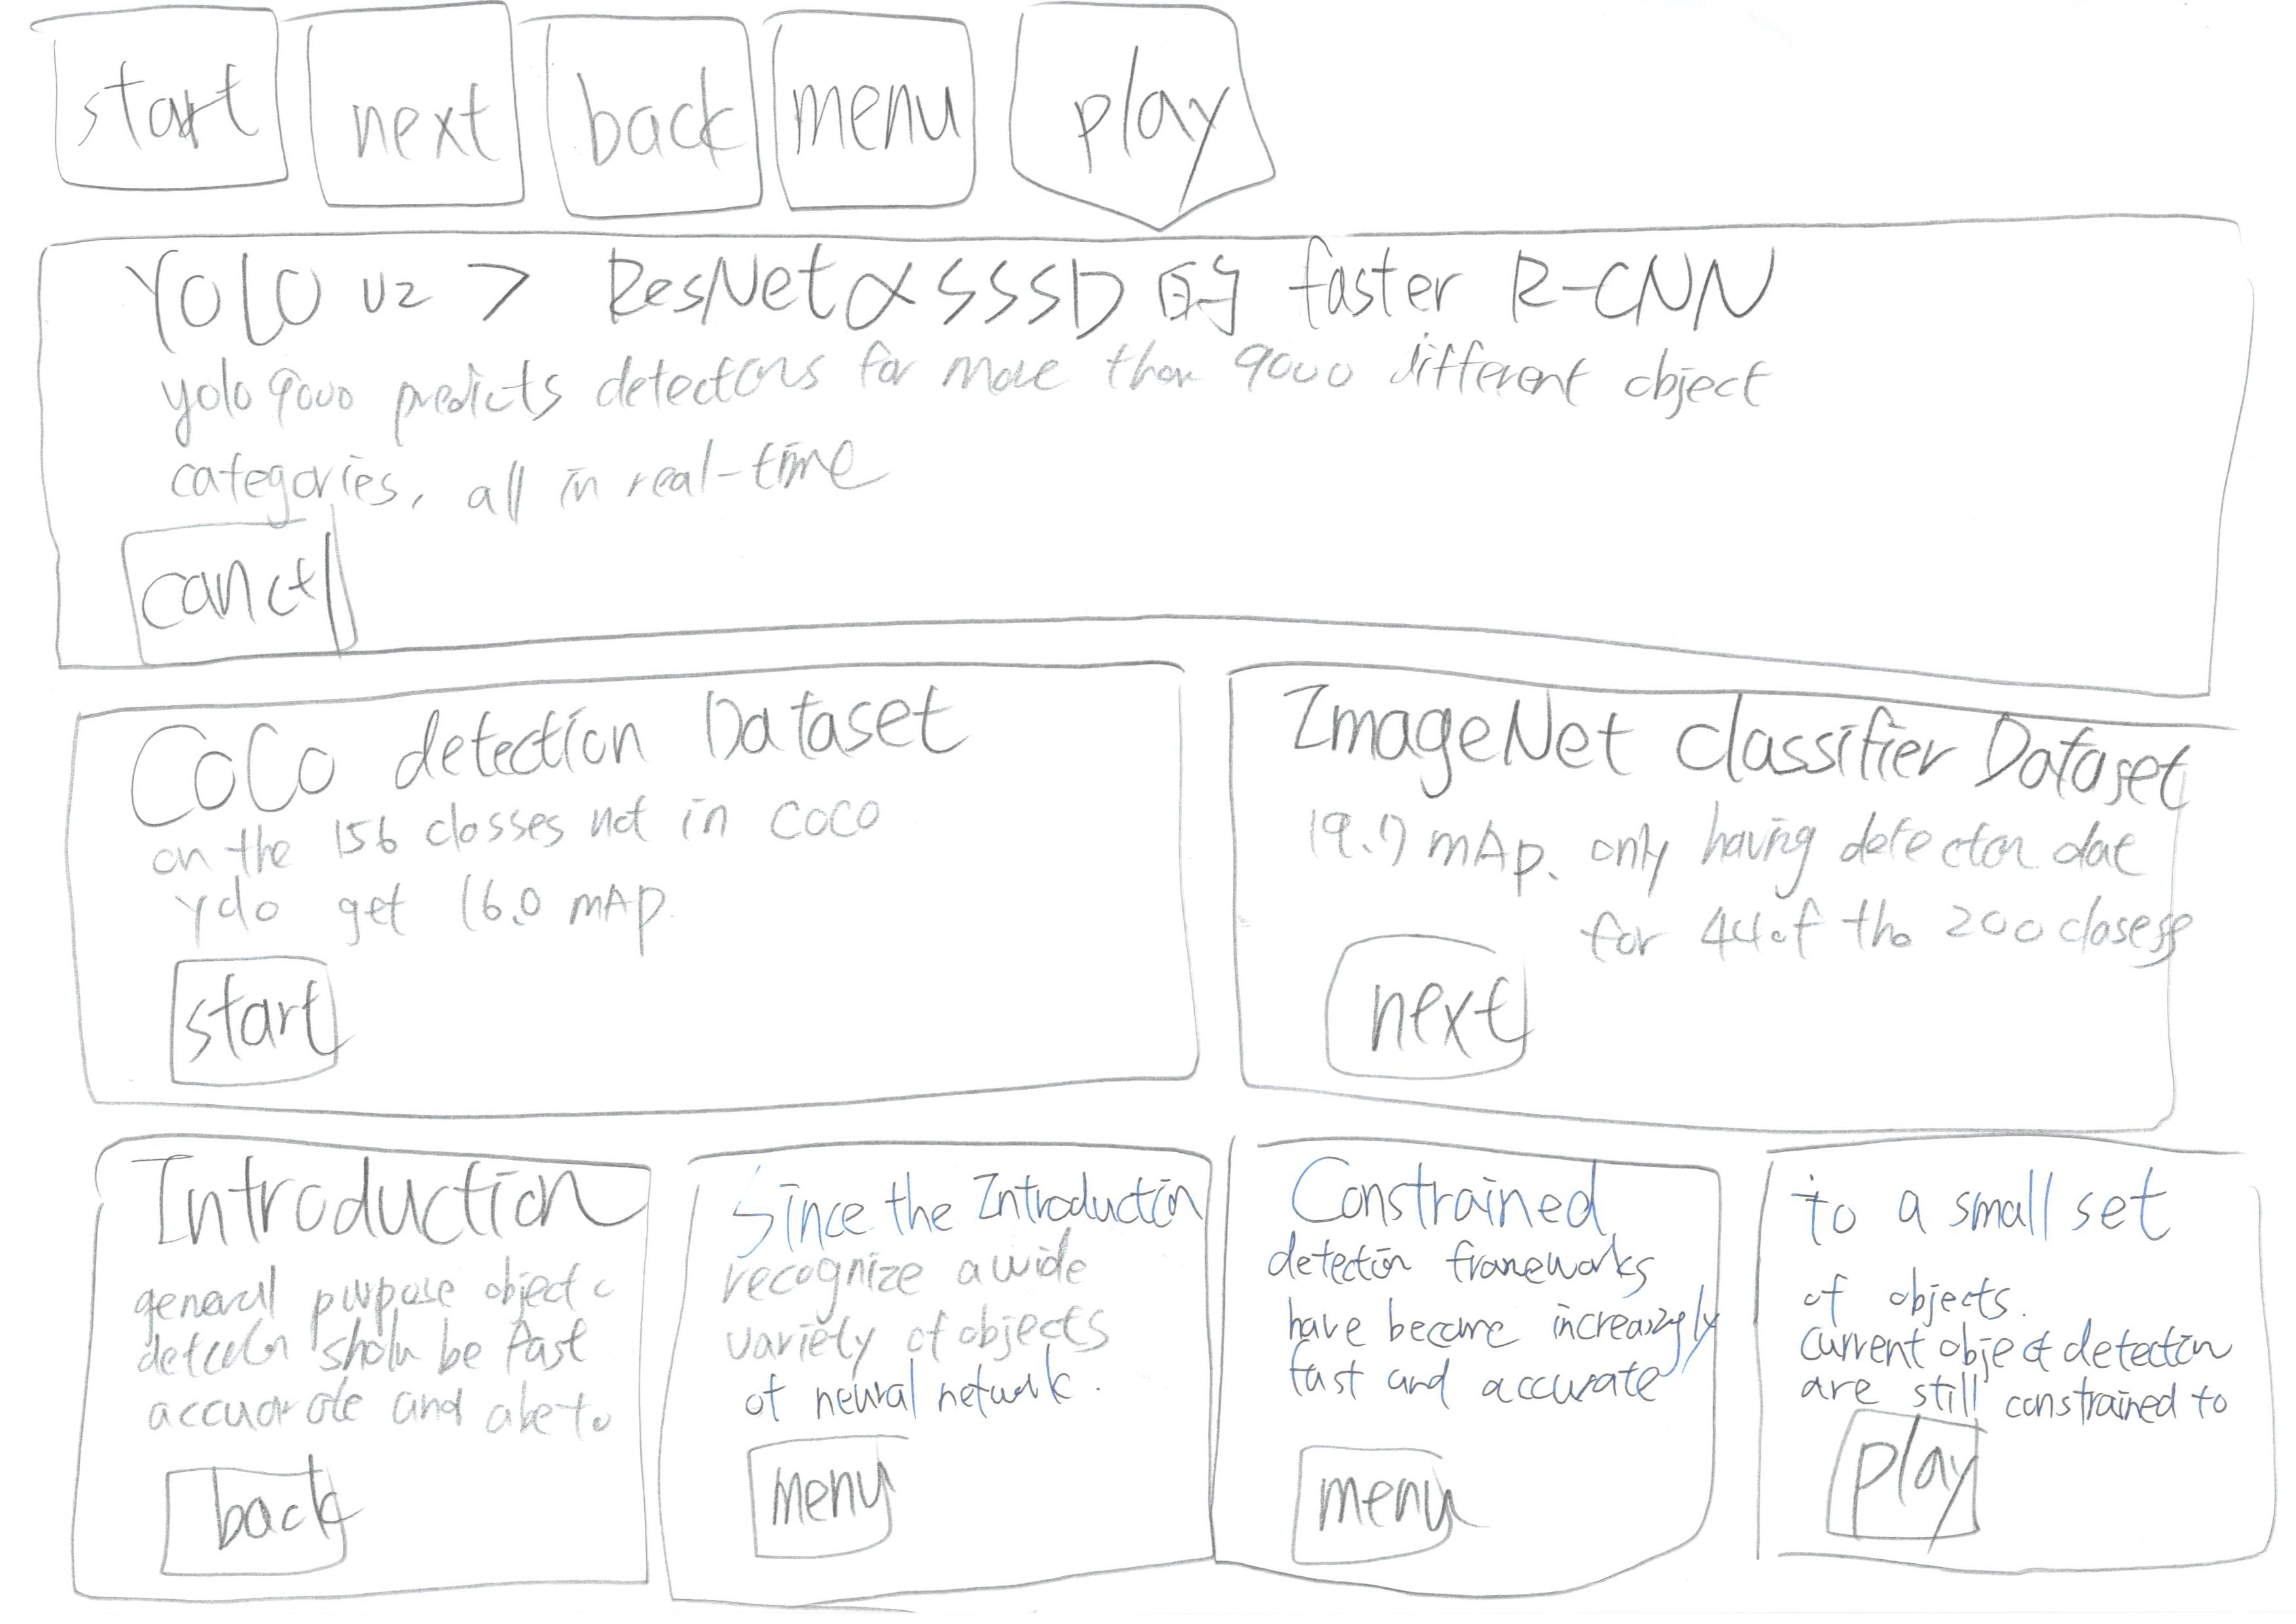back: (144, 1452, 389, 1598)
cancel: (83, 503, 401, 680)
double: (23, 615, 1229, 1171), (1188, 624, 2296, 1169)
menu: (752, 0, 995, 251), (714, 1429, 985, 1598)
next: (258, 0, 549, 246), (1290, 909, 1570, 1097), (1252, 1420, 1537, 1591)
play: (985, 2, 1311, 250), (1806, 1394, 2020, 1598)
quadruple: (35, 1120, 672, 1624), (652, 1120, 1236, 1620), (1712, 1104, 2296, 1598), (1213, 1084, 1733, 1624)
row: (7, 573, 2296, 1156), (9, 1084, 2296, 1619), (11, 209, 2296, 731), (7, 0, 2296, 264)
single: (9, 169, 2296, 752)
small-title: (104, 251, 1762, 362), (1296, 678, 2183, 824), (118, 701, 958, 777), (107, 1158, 594, 1257), (723, 1160, 1169, 1262), (1784, 1172, 2176, 1251), (1296, 1155, 1619, 1246)
start: (26, 0, 295, 209), (134, 937, 403, 1125)
text: (149, 362, 1802, 510), (1268, 798, 2155, 963), (111, 1250, 605, 1457), (169, 798, 912, 933), (714, 1237, 1127, 1443), (1257, 1251, 1698, 1420), (1783, 1281, 2238, 1424)
